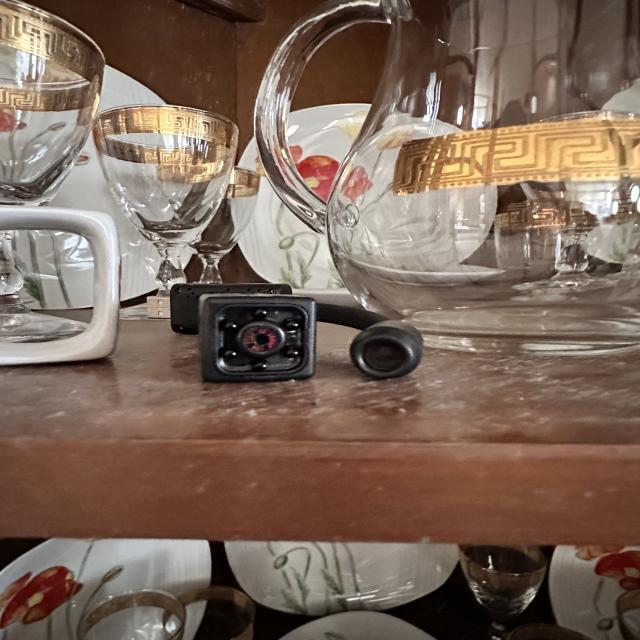hidden camera: (354, 336, 416, 379), (240, 324, 283, 355)
